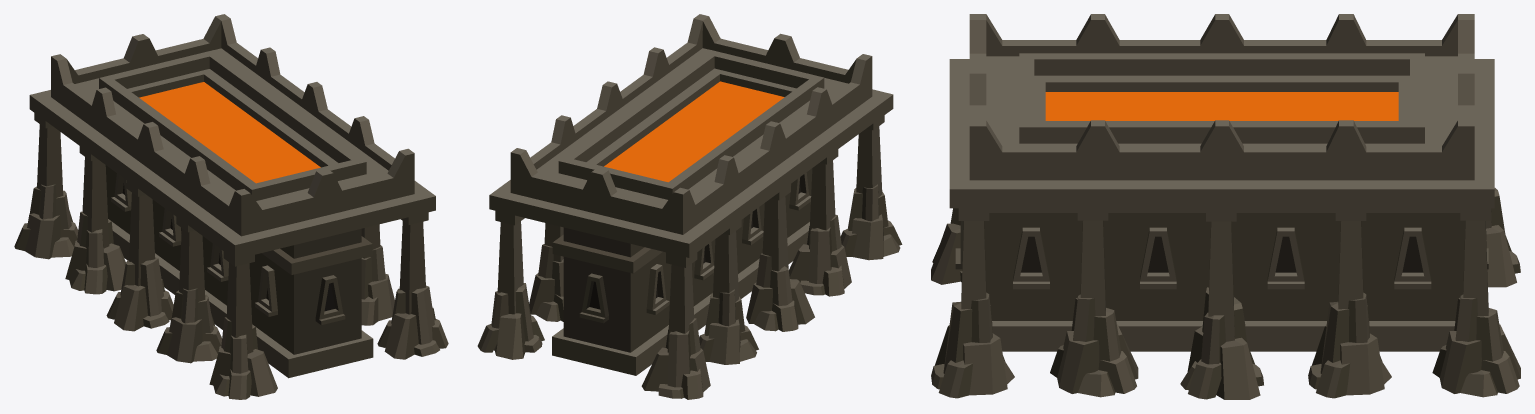
The model's file is SF_Bld_Undead_Castle_Hall_01.fbx.
3 renders of one model, left to right at view 1: azimuth 30°, elevation 25°; view 2: azimuth 150°, elevation 25°; view 3: azimuth 270°, elevation 25°, orthographic. The views are drawn at different scales.
Visible parts, largest first — view 1: SF_Bld_Undead_Castle_Hall_01; view 2: SF_Bld_Undead_Castle_Hall_01; view 3: SF_Bld_Undead_Castle_Hall_01.
Boxes of the visible parts, x1,y1,x2,y2 form: SF_Bld_Undead_Castle_Hall_01: (14, 14, 448, 399); SF_Bld_Undead_Castle_Hall_01: (477, 14, 902, 399); SF_Bld_Undead_Castle_Hall_01: (931, 14, 1520, 399).
Size of the model in its own units: 18.98 by 14.81 by 31.19.
